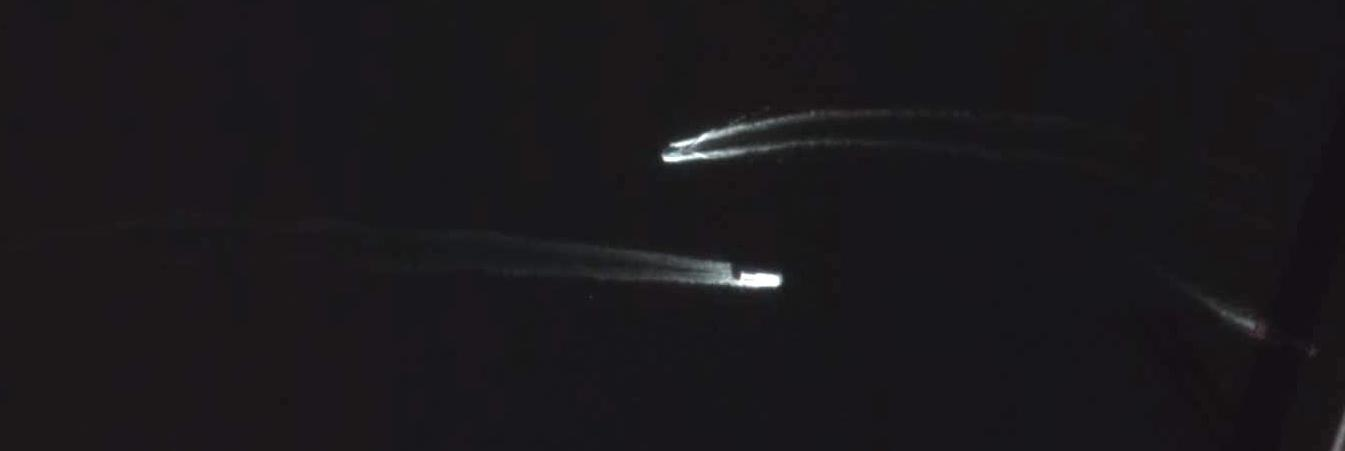person: (1270, 340, 1319, 360), (739, 271, 782, 288), (663, 145, 685, 157)
